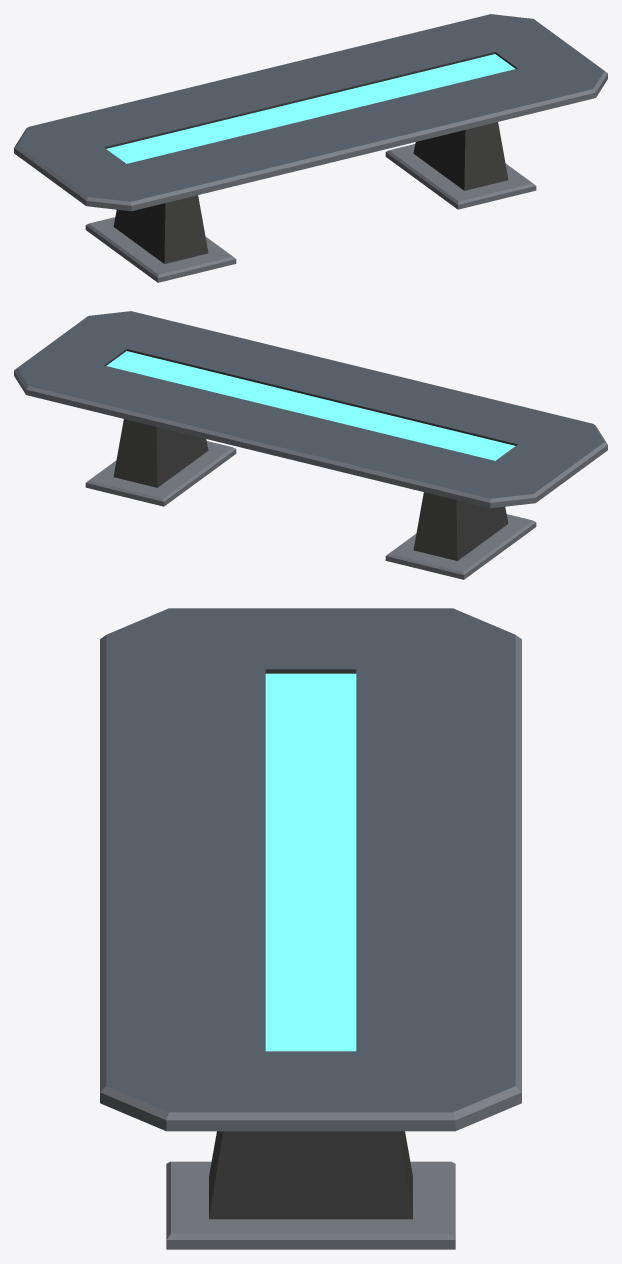
Rendered from briefing_table.glb.
The picture shows the model from 3 angles, top to bottom: view 1: azimuth 30°, elevation 25°; view 2: azimuth 150°, elevation 25°; view 3: azimuth 270°, elevation 25°; orthographic projection. The views are drawn at different scales.
Visible parts, largest first — view 1: briefing_table; view 2: briefing_table; view 3: briefing_table.
Part boxes in pixels (bbox=[...]): briefing_table: bbox=[14, 14, 607, 282]; briefing_table: bbox=[14, 311, 607, 579]; briefing_table: bbox=[100, 608, 521, 1249].
Bounding box in the file's own units: 4 × 0.75 × 1.4.
